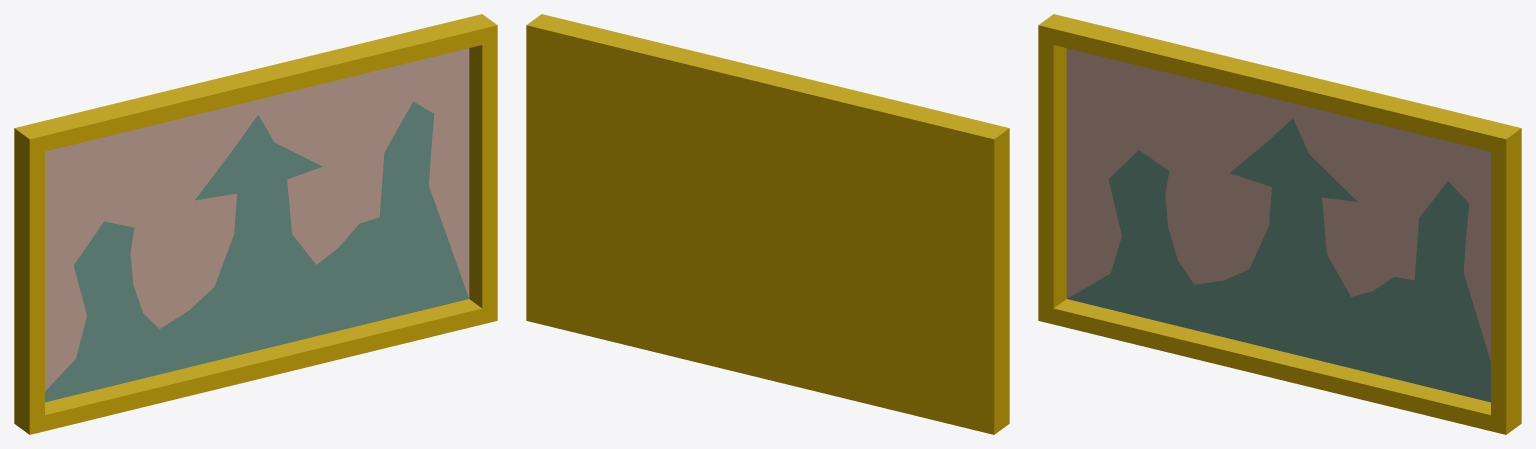
Rendered from Picture_02.fbx.
The picture shows the model from 3 angles, left to right: view 1: azimuth 30°, elevation 25°; view 2: azimuth 150°, elevation 25°; view 3: azimuth 330°, elevation 25°; orthographic projection.
Parts seen in each view (by area): view 1: Picture_02; view 2: Picture_02; view 3: Picture_02.
Boxes of the visible parts, bbox=[...] form: Picture_02: bbox=[14, 14, 497, 434]; Picture_02: bbox=[526, 14, 1009, 434]; Picture_02: bbox=[1038, 14, 1521, 434].
Size of the model in its own units: 1754 by 1059 by 99.72.
